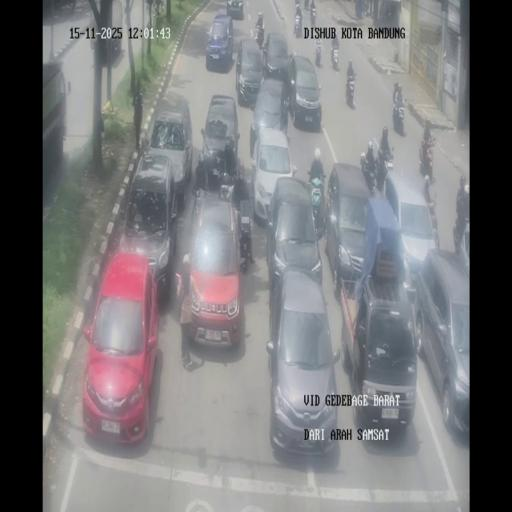car: (82, 252, 160, 444), (340, 257, 418, 436), (267, 270, 339, 456), (414, 248, 468, 438), (182, 190, 246, 348), (119, 153, 180, 297), (380, 170, 438, 293), (325, 162, 373, 292), (251, 125, 295, 226), (199, 94, 240, 190), (288, 54, 322, 132), (91, 0, 123, 62), (235, 39, 264, 107), (205, 13, 235, 70), (262, 32, 291, 82), (226, 0, 244, 19)
motorcycle: (190, 182, 207, 237), (310, 177, 326, 235), (453, 209, 468, 255), (360, 154, 376, 193), (426, 200, 439, 242), (378, 142, 394, 172), (392, 98, 405, 134), (419, 137, 433, 170), (219, 176, 236, 203), (345, 72, 356, 108), (330, 41, 340, 70), (254, 22, 264, 49), (392, 81, 402, 105), (293, 11, 302, 37), (314, 42, 322, 67), (378, 1, 386, 24), (310, 4, 317, 25), (363, 0, 369, 16), (330, 24, 336, 40), (304, 0, 310, 10)
truck: (41, 62, 67, 186)
